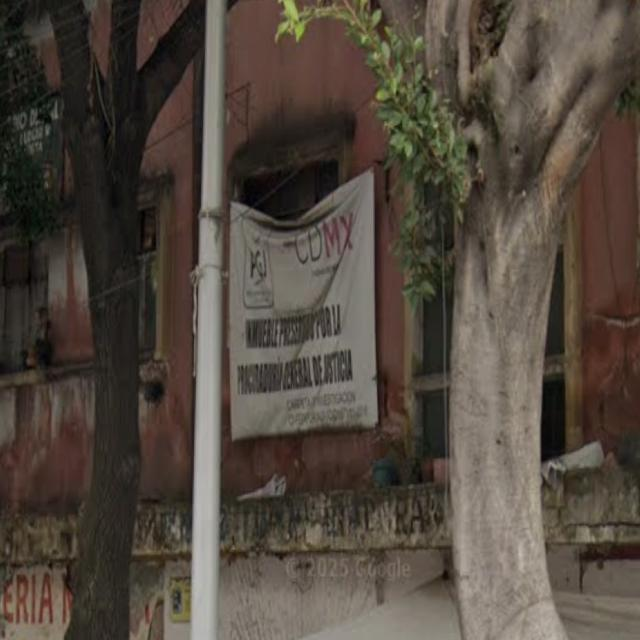stamps: (230, 178, 376, 441)
